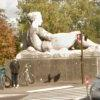Statue: (13, 6, 87, 58)
